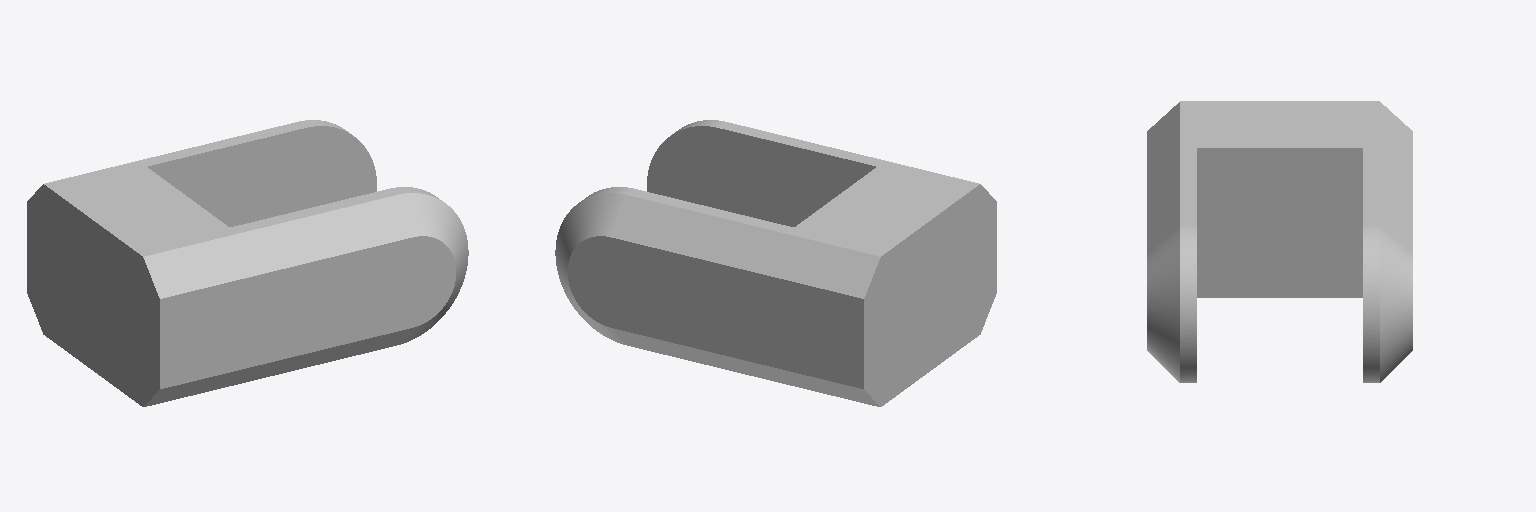
File: Bone4.obj
The picture shows the model from 3 angles: view 1: azimuth 30°, elevation 25°; view 2: azimuth 150°, elevation 25°; view 3: azimuth 270°, elevation 25°; orthographic projection.
Visible parts, largest first — view 1: Bone4; view 2: Bone4; view 3: Bone4.
Boxes of the visible parts, <box> form: Bone4: <box>27,120,468,406</box>; Bone4: <box>555,120,996,406</box>; Bone4: <box>1147,101,1412,382</box>.
Bounding box in the file's own units: 282 × 125 × 200.